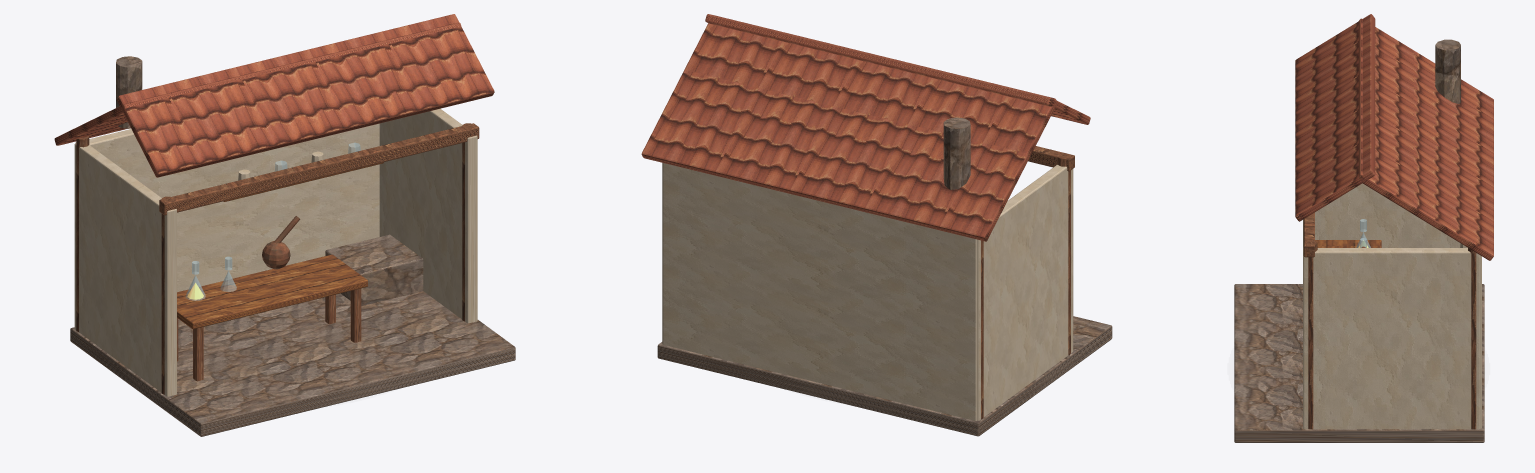
The model's file is laboratory.glb.
The picture shows the model from 3 angles, left to right: view 1: azimuth 30°, elevation 25°; view 2: azimuth 150°, elevation 25°; view 3: azimuth 270°, elevation 25°; orthographic projection. The views are drawn at different scales.
Parts seen in each view (by area): view 1: floor, roof, backWall, sideWall, sideWall.001, table, beamTop, hearth, roof.001, chimney, cornerPost, cornerPostB (+4 smaller); view 2: backWall, roof.001, sideWall, floor, roof, chimney, cornerPost, beamTop; view 3: sideWall.001, roof.001, floor, roof, sideWall, chimney, cornerPost.001, cornerPostB.001, beamTop, table, backWall.
Boxes of the visible parts, bbox=[...] form: floor: bbox=[70, 291, 515, 436]; roof: bbox=[117, 14, 494, 177]; backWall: bbox=[75, 123, 379, 292]; sideWall: bbox=[74, 143, 176, 396]; sideWall.001: bbox=[379, 108, 477, 323]; table: bbox=[177, 254, 367, 329]; beamTop: bbox=[159, 123, 479, 215]; hearth: bbox=[325, 234, 423, 305]; roof.001: bbox=[54, 22, 461, 145]; chimney: bbox=[116, 56, 142, 128]; cornerPost: bbox=[161, 196, 174, 394]; cornerPostB: bbox=[76, 136, 89, 331]; backWall: bbox=[662, 163, 977, 420]; roof.001: bbox=[641, 23, 1057, 241]; sideWall: bbox=[977, 164, 1073, 420]; floor: bbox=[657, 316, 1112, 436]; roof: bbox=[705, 14, 1090, 124]; chimney: bbox=[943, 117, 970, 189]; cornerPost: bbox=[1057, 153, 1070, 355]; beamTop: bbox=[1028, 146, 1074, 171]; sideWall.001: bbox=[1303, 248, 1480, 429]; roof.001: bbox=[1358, 18, 1493, 260]; floor: bbox=[1234, 284, 1484, 442]; roof: bbox=[1295, 14, 1375, 221]; sideWall: bbox=[1303, 183, 1460, 248]; chimney: bbox=[1435, 39, 1460, 103]; cornerPost.001: bbox=[1305, 240, 1317, 429]; cornerPostB.001: bbox=[1468, 248, 1476, 429]; beamTop: bbox=[1303, 212, 1314, 257]; table: bbox=[1315, 240, 1381, 247]; backWall: bbox=[1480, 256, 1481, 428].
Bounding box in the file's own units: 5.3 × 3.8 × 4.
Materials: 14 (11 with a texture image).
